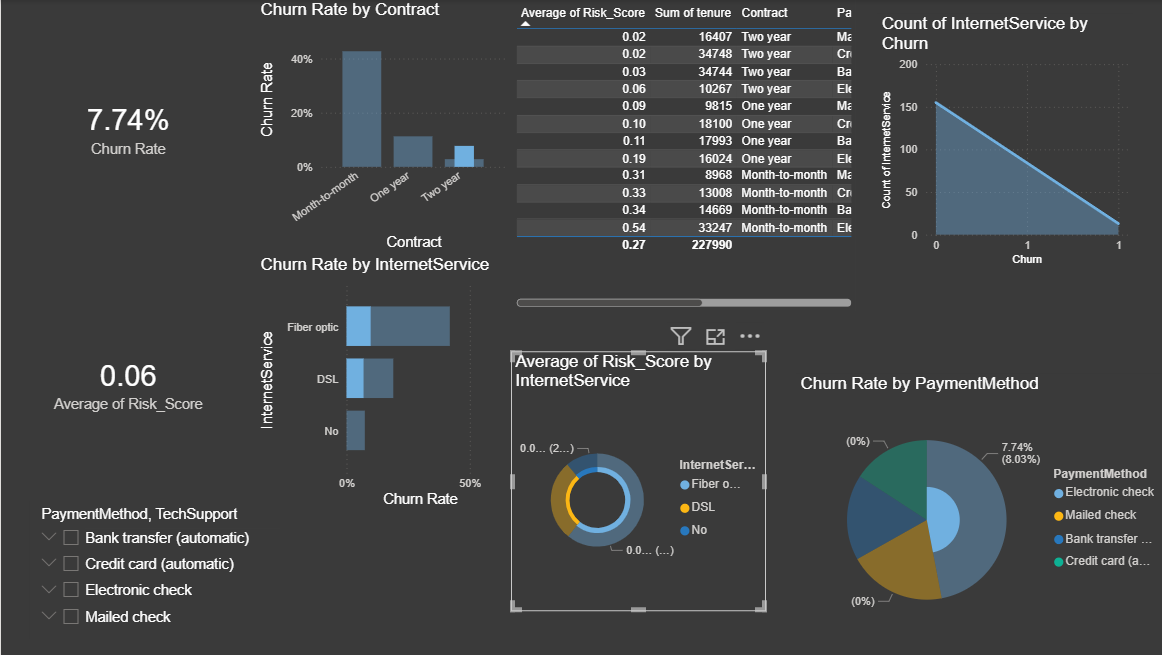

This screenshot's page, from the dashboard's own definition file:
{"tool":"powerbi","page":{"name":"Page 1","canvas":[1280,720],"ordinal":0},"visuals":[{"type":"card","fields":{"Values":["churn_predictions.Churn Rate"]},"box":[0,0,279.9,279.9],"z":0},{"type":"card","fields":{"Values":["Avg(churn_predictions.Risk_Score)"]},"box":[0,279.9,279.9,281.3],"z":1000},{"type":"columnChart","fields":{"Category":["churn_predictions.Contract"],"Y":["churn_predictions.Churn Rate"]},"box":[279.9,0,279.9,279.9],"z":2000},{"type":"clusteredBarChart","fields":{"Category":["churn_predictions.InternetService"],"Y":["churn_predictions.Churn Rate"]},"box":[279.9,279.9,279.9,281.3],"z":3000},{"type":"tableEx","fields":{"Values":["Avg(churn_predictions.Risk_Score)","Sum(churn_predictions.tenure)","churn_predictions.Contract","churn_predictions.PaymentMethod","Sum(churn_predictions.MonthlyCharges)"]},"box":[559.9,0,378.7,341.7],"z":4000},{"type":"areaChart","fields":{"Category":["churn_predictions.Churn"],"Y":["CountNonNull(churn_predictions.InternetService)"]},"box":[961.9,15.1,279.9,281.3],"z":5000},{"type":"donutChart","fields":{"Y":["Avg(churn_predictions.Risk_Score)"],"Category":["churn_predictions.InternetService"]},"box":[559.9,385.6,279.9,285.4],"z":6000},{"type":"slicer","fields":{"Values":["churn_predictions.PaymentMethod","churn_predictions.TechSupport"]},"box":[31.6,550.3,279.9,150.9],"z":7000},{"type":"pieChart","fields":{"Category":["churn_predictions.PaymentMethod"],"Y":["churn_predictions.Churn Rate"]},"box":[872.7,410.3,407.5,300.5],"z":8000}]}

Visuals, with their boxes in screenshot pixels (x1, y1, x2, y2), scaled from the page's 1280x720 canvas onto the 1162x655 screenshot:
card - churn_predictions.Churn Rate: box(0, 0, 254, 255)
card - Avg(churn_predictions.Risk_Score): box(0, 255, 254, 511)
columnChart - churn_predictions.Contract x churn_predictions.Churn Rate: box(254, 0, 508, 255)
clusteredBarChart - churn_predictions.InternetService x churn_predictions.Churn Rate: box(254, 255, 508, 511)
tableEx - Avg(churn_predictions.Risk_Score) x Sum(churn_predictions.tenure): box(508, 0, 852, 311)
areaChart - churn_predictions.Churn x CountNonNull(churn_predictions.InternetService): box(873, 14, 1127, 270)
donutChart - Avg(churn_predictions.Risk_Score) x churn_predictions.InternetService: box(508, 351, 762, 610)
slicer - churn_predictions.PaymentMethod x churn_predictions.TechSupport: box(29, 501, 283, 638)
pieChart - churn_predictions.PaymentMethod x churn_predictions.Churn Rate: box(792, 373, 1161, 647)
